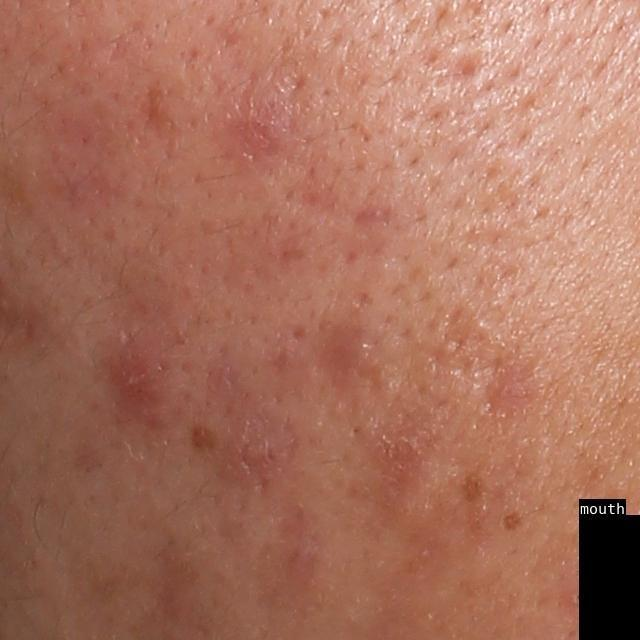atrophic_scar: (476, 341, 540, 431), (138, 76, 182, 155), (353, 202, 402, 231)
papule: (101, 354, 160, 406)
